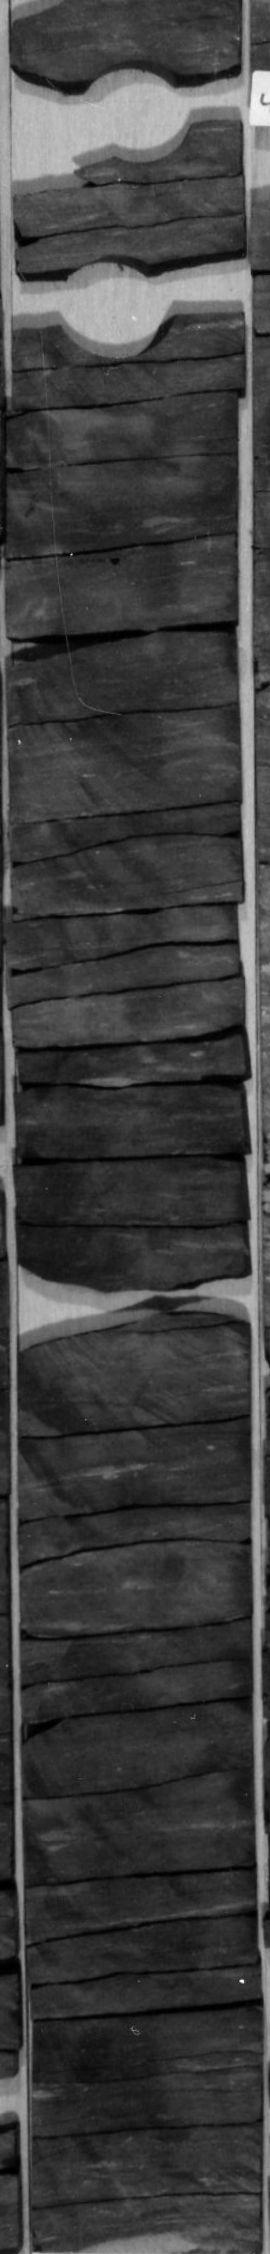scal: (57, 260, 171, 367), (75, 65, 185, 172)
